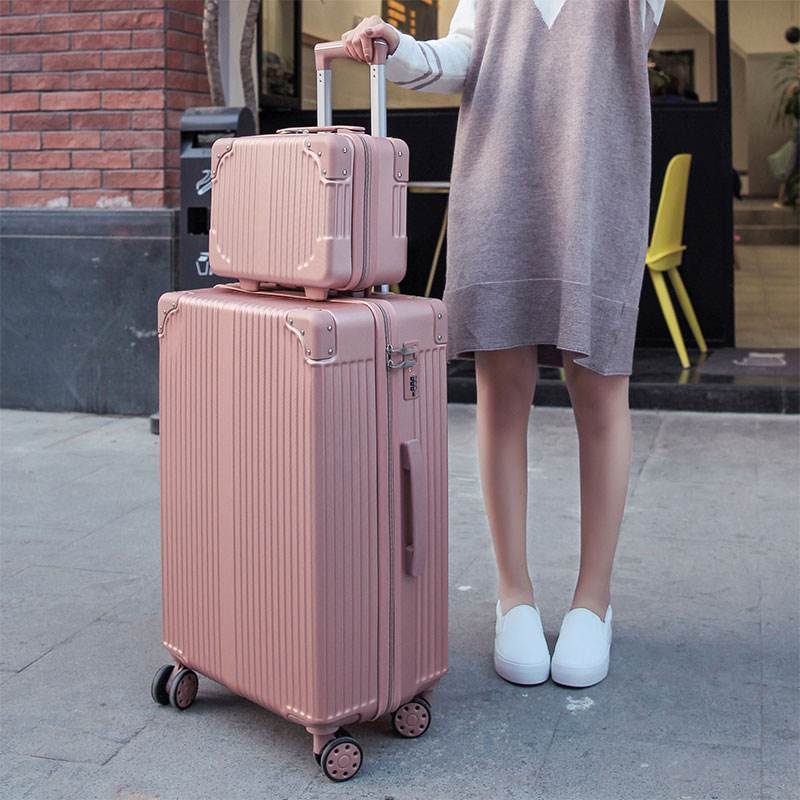box: (158, 280, 447, 729)
handle: (401, 439, 429, 578)
lock: (392, 339, 423, 401)
wheel: (314, 732, 363, 782), (150, 664, 199, 709), (392, 698, 432, 740)
